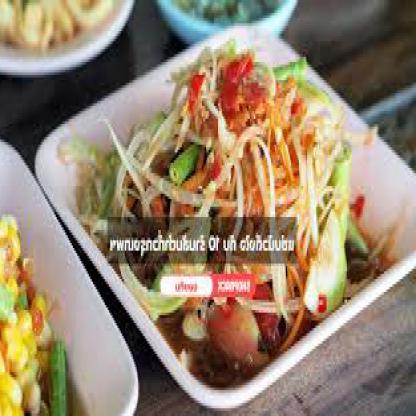Papaya Salad: (52, 52, 411, 392)
